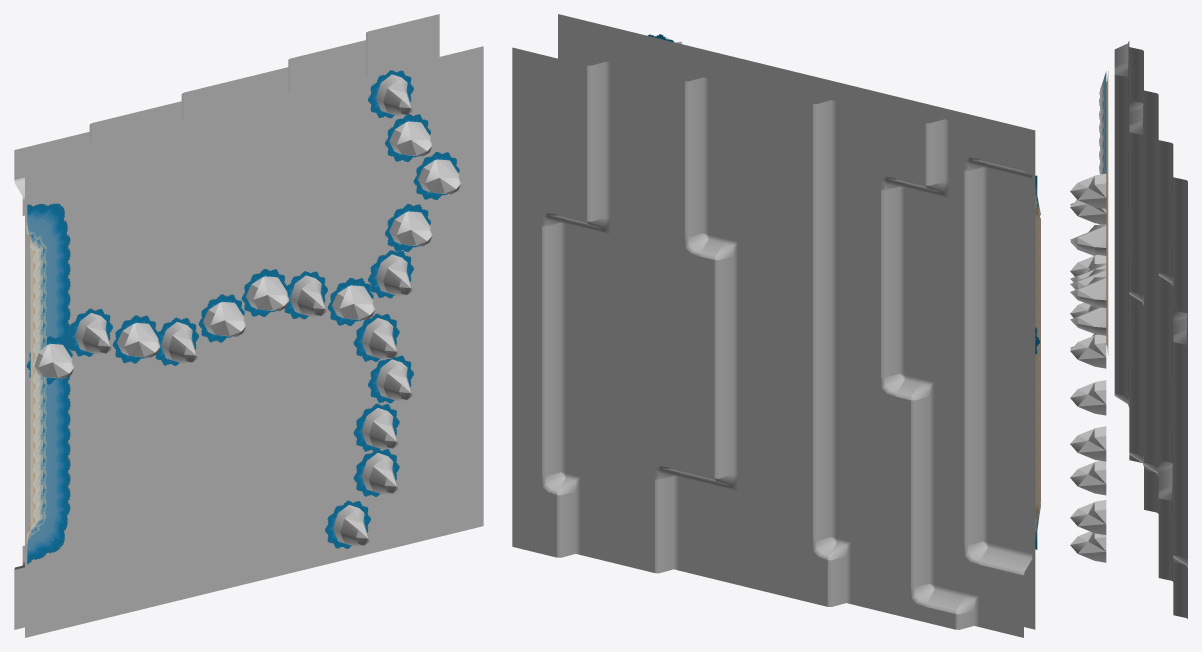
File: Asteria_38_35.obj
3 renders of one model, left to right at view 1: azimuth 30°, elevation 25°; view 2: azimuth 150°, elevation 25°; view 3: azimuth 270°, elevation 25°, orthographic. The views are drawn at different scales.
Parts seen in each view (by area): view 1: map; view 2: map; view 3: map.
Boxes of the visible parts, <box> form: map: <box>14,14,483,637</box>; map: <box>512,14,1041,637</box>; map: <box>1070,41,1187,618</box>.
Size of the model in its own units: 32.11 by 32.11 by 8.04.
